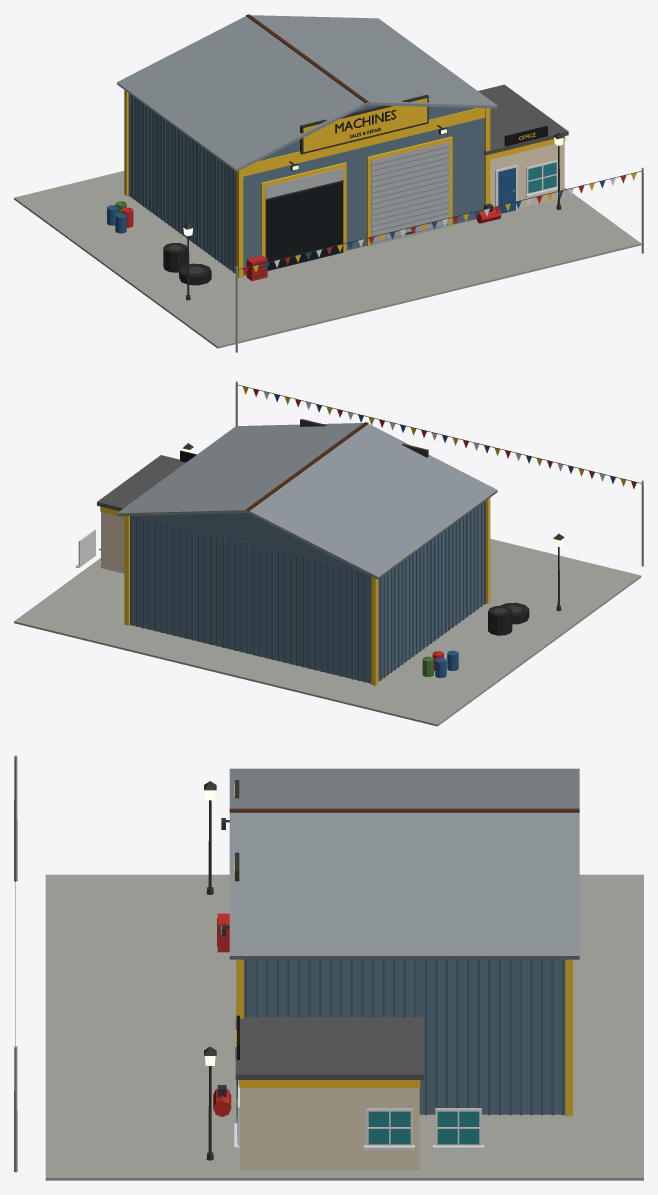
Rendered from Building_MachineDealer.fbx.
3 views of the same model, one above another, from view 1: azimuth 30°, elevation 25°; view 2: azimuth 150°, elevation 25°; view 3: azimuth 270°, elevation 25° (orthographic). The views are drawn at different scales.
Parts seen in each view (by area): view 1: Building_MachineDealer; view 2: Building_MachineDealer; view 3: Building_MachineDealer.
Boxes of the visible parts, left/top/right/bottom form: Building_MachineDealer: left=14, top=14, right=643, bottom=352; Building_MachineDealer: left=14, top=381, right=643, bottom=726; Building_MachineDealer: left=14, top=755, right=643, bottom=1180.
Size of the model in its own units: 24 by 8.07 by 21.06.
